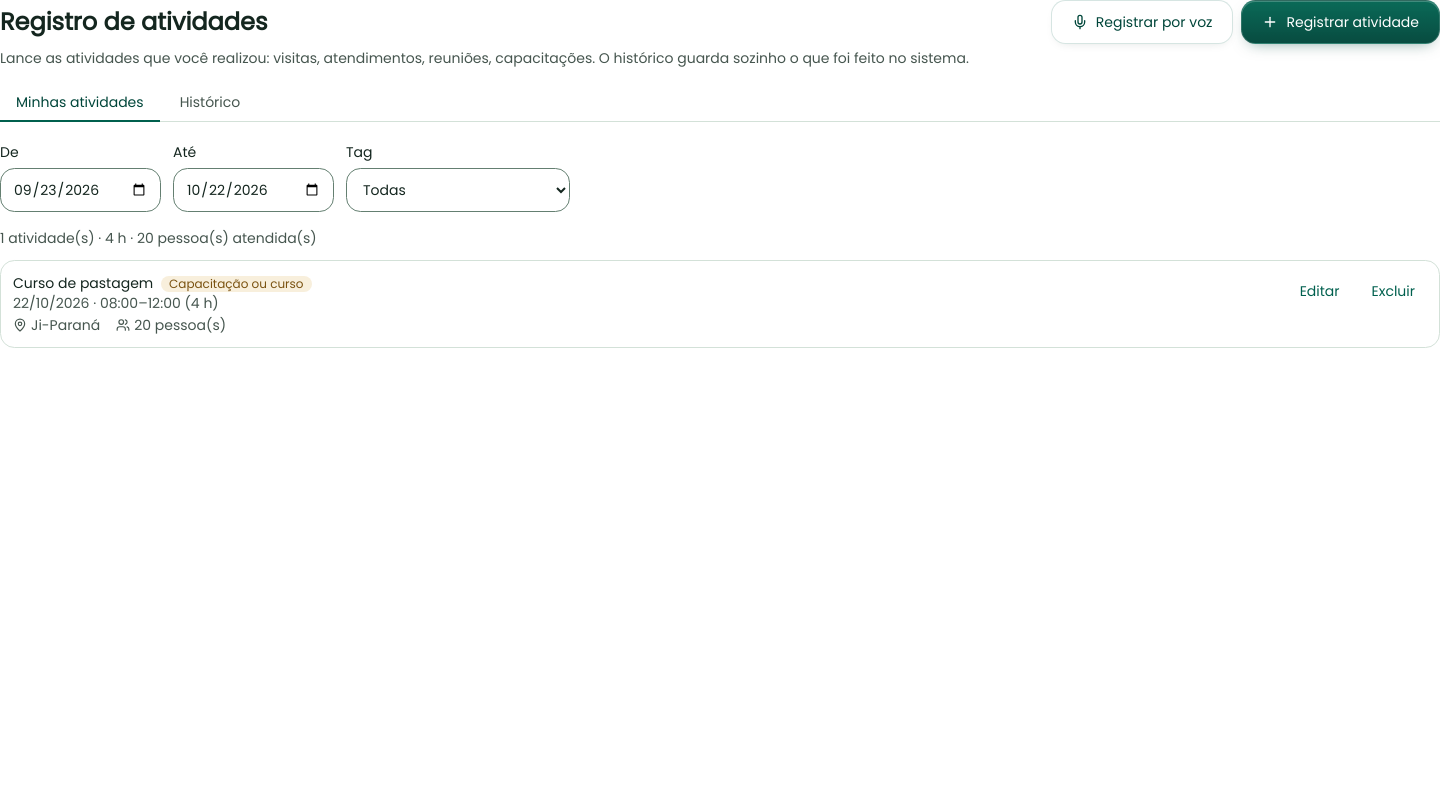
Registro de atividades › aplica tag numa atividade, mostra o chip e filtra por ela
Step 1. Click the button "Registrar atividade" → [1341, 22], box top-left (1242, 0), bottom-right (1439, 44)
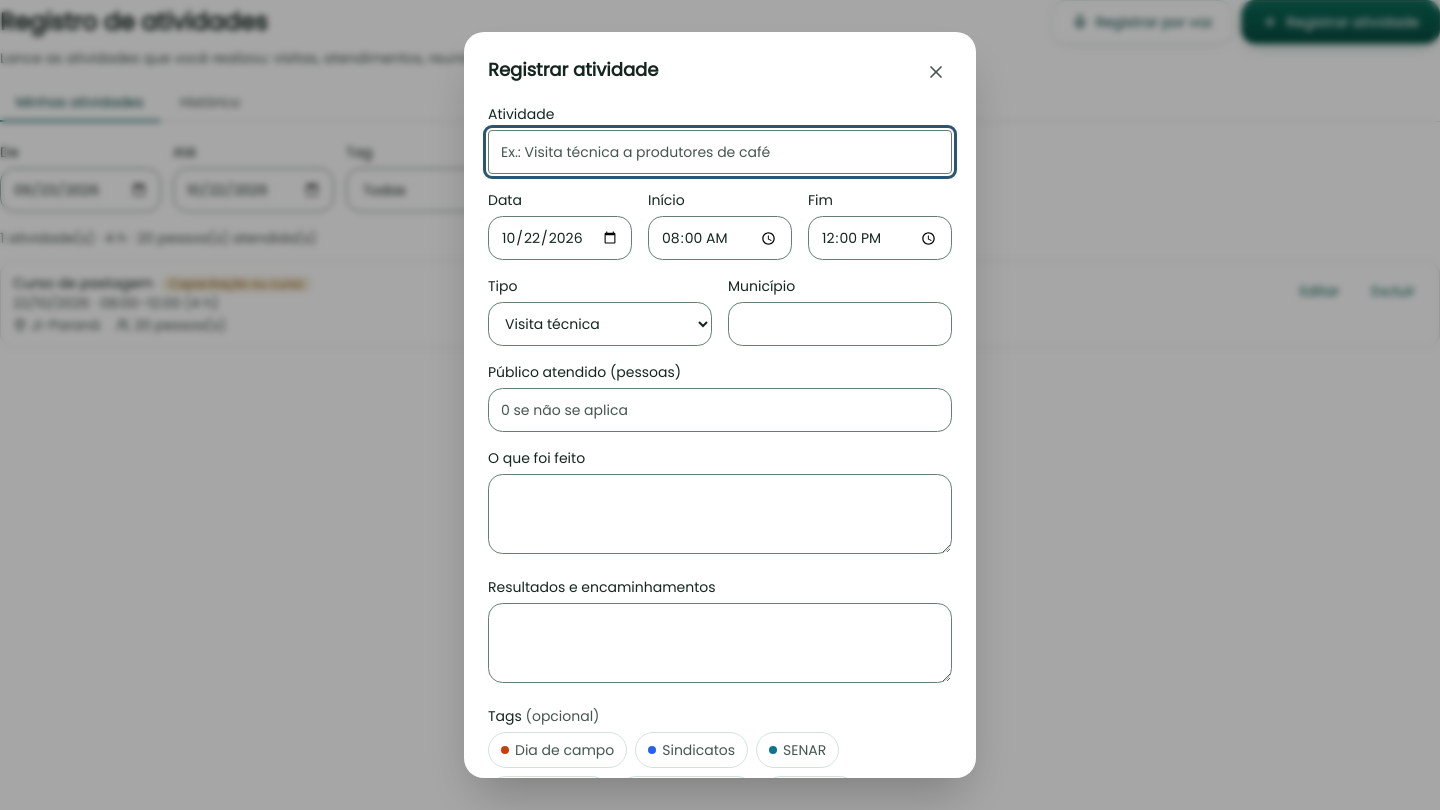
Step 2. Type "Dia de campo do café" into the field labelled "Atividade" → [720, 152], box top-left (488, 130), bottom-right (952, 174)
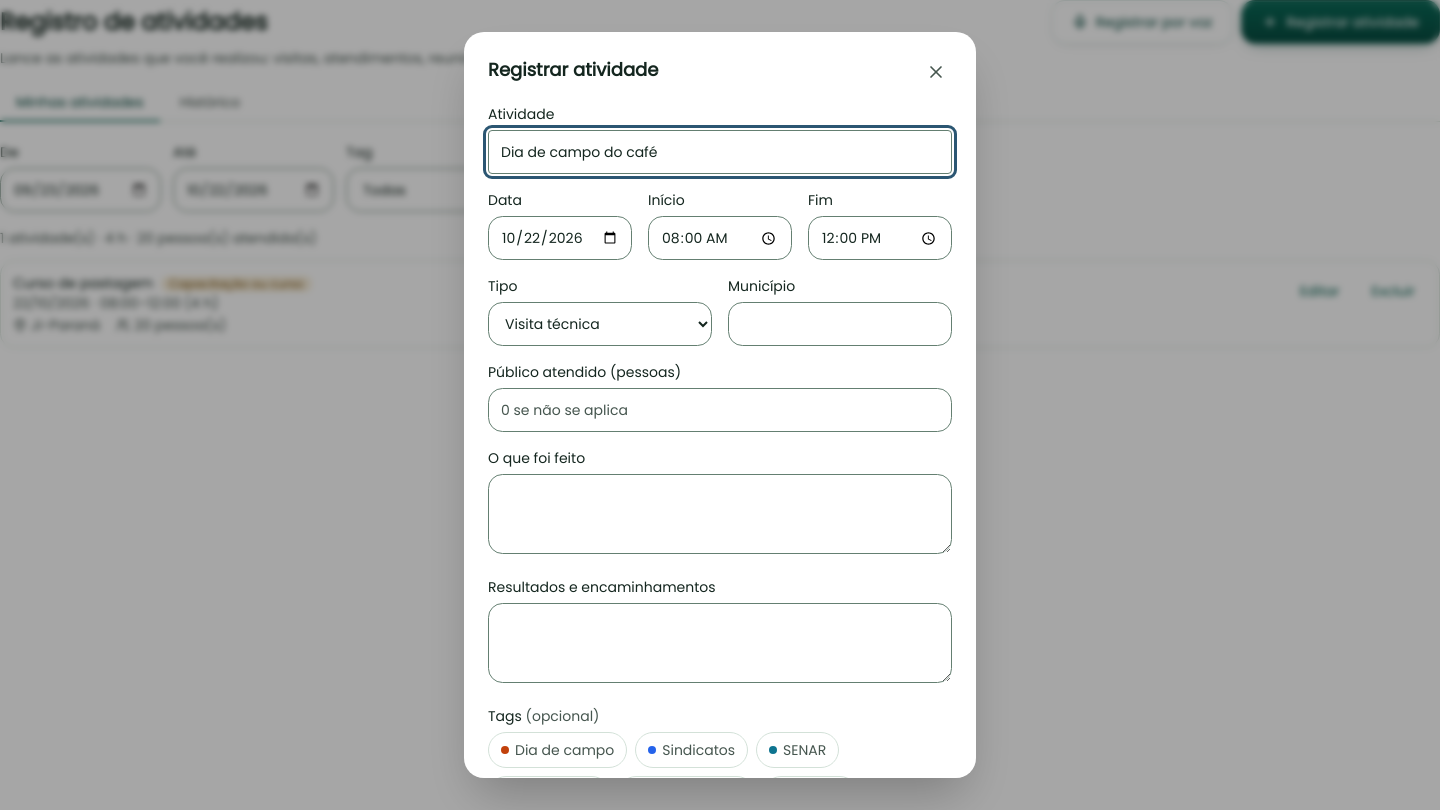
Step 3. Click the checkbox labelled "Dia de campo" → [558, 750], box top-left (488, 732), bottom-right (627, 768)
(page scrolled)
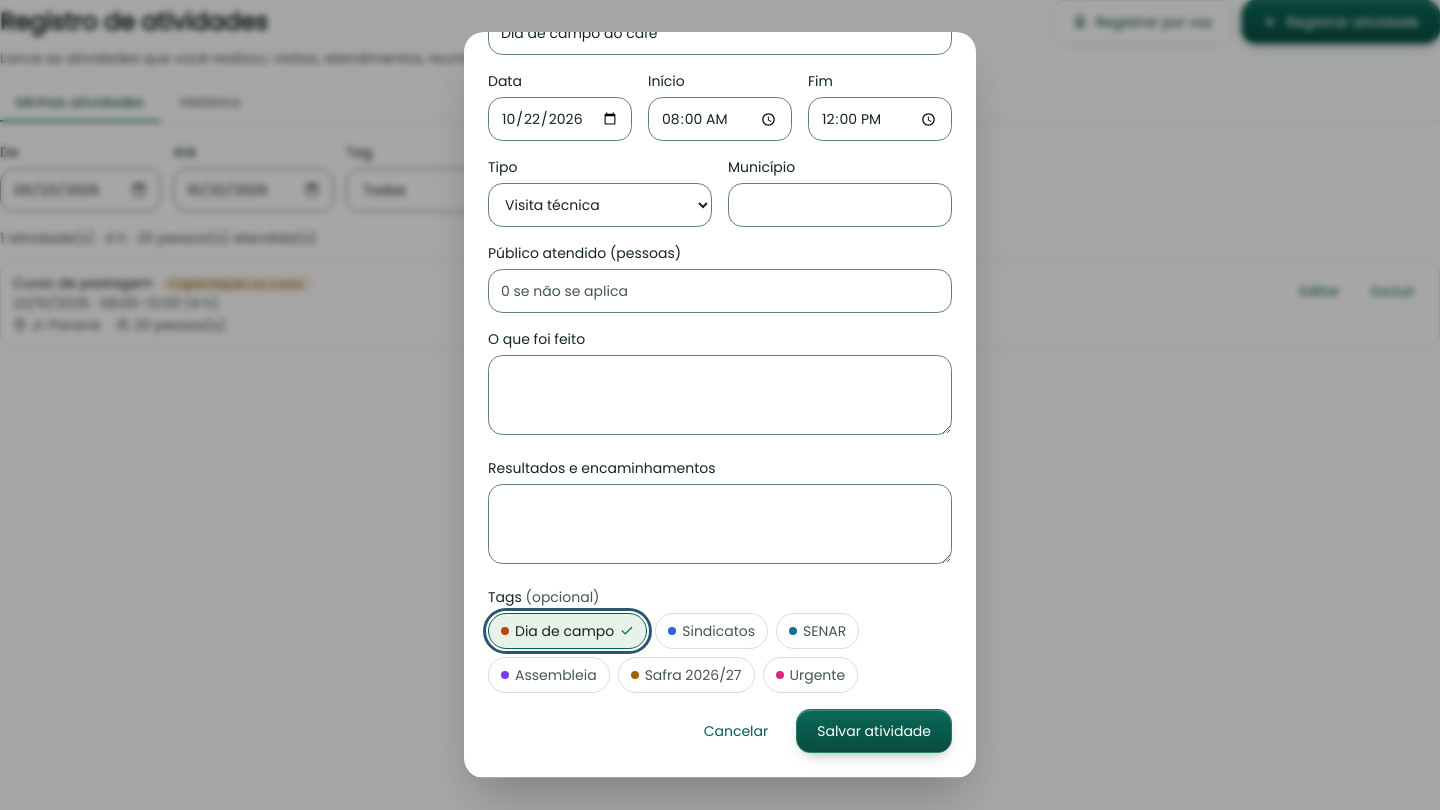
Step 4. Click the button "Salvar atividade" → [874, 731], box top-left (796, 709), bottom-right (952, 753)
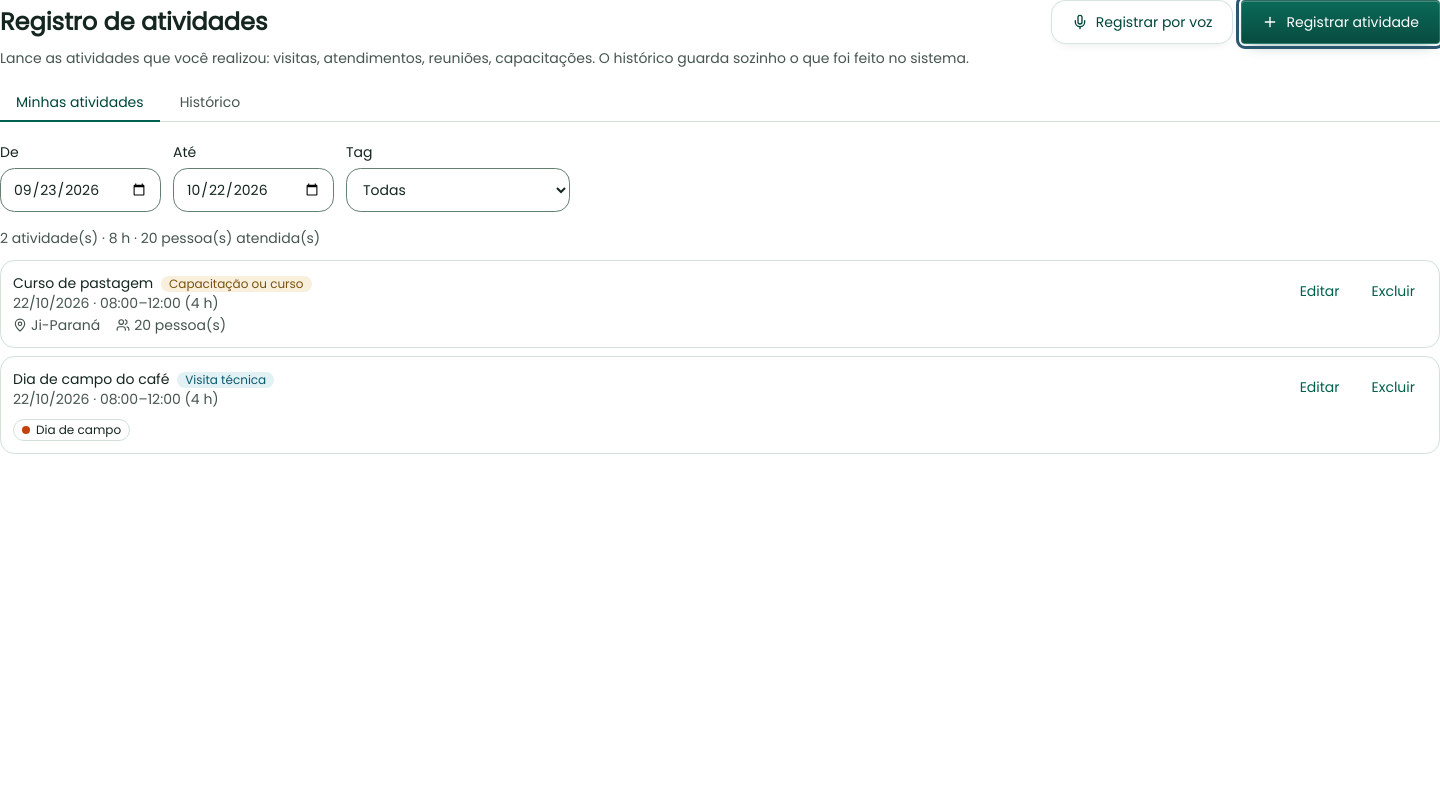
Step 5. Select "Dia de campo" in the dropdown labelled "Tag" → [458, 190], box top-left (346, 168), bottom-right (570, 212)
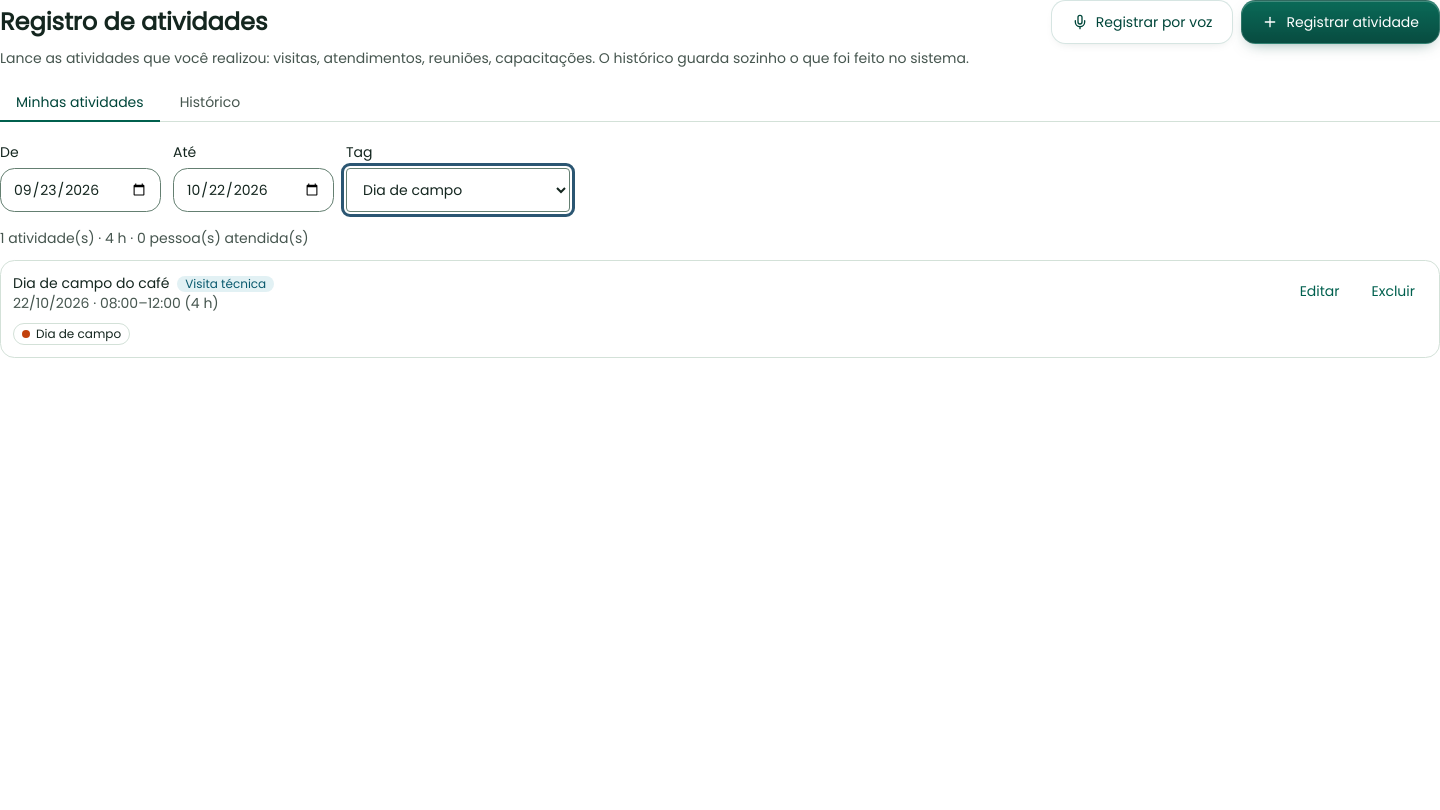
expect the text "Dia de campo" is shown: met, box top-left (13, 323), bottom-right (130, 345)
expect the text "Curso de pastagem" is gone: met
Step 6. Select "Todas" in the dropdown labelled "Tag" → [458, 190], box top-left (346, 168), bottom-right (570, 212)
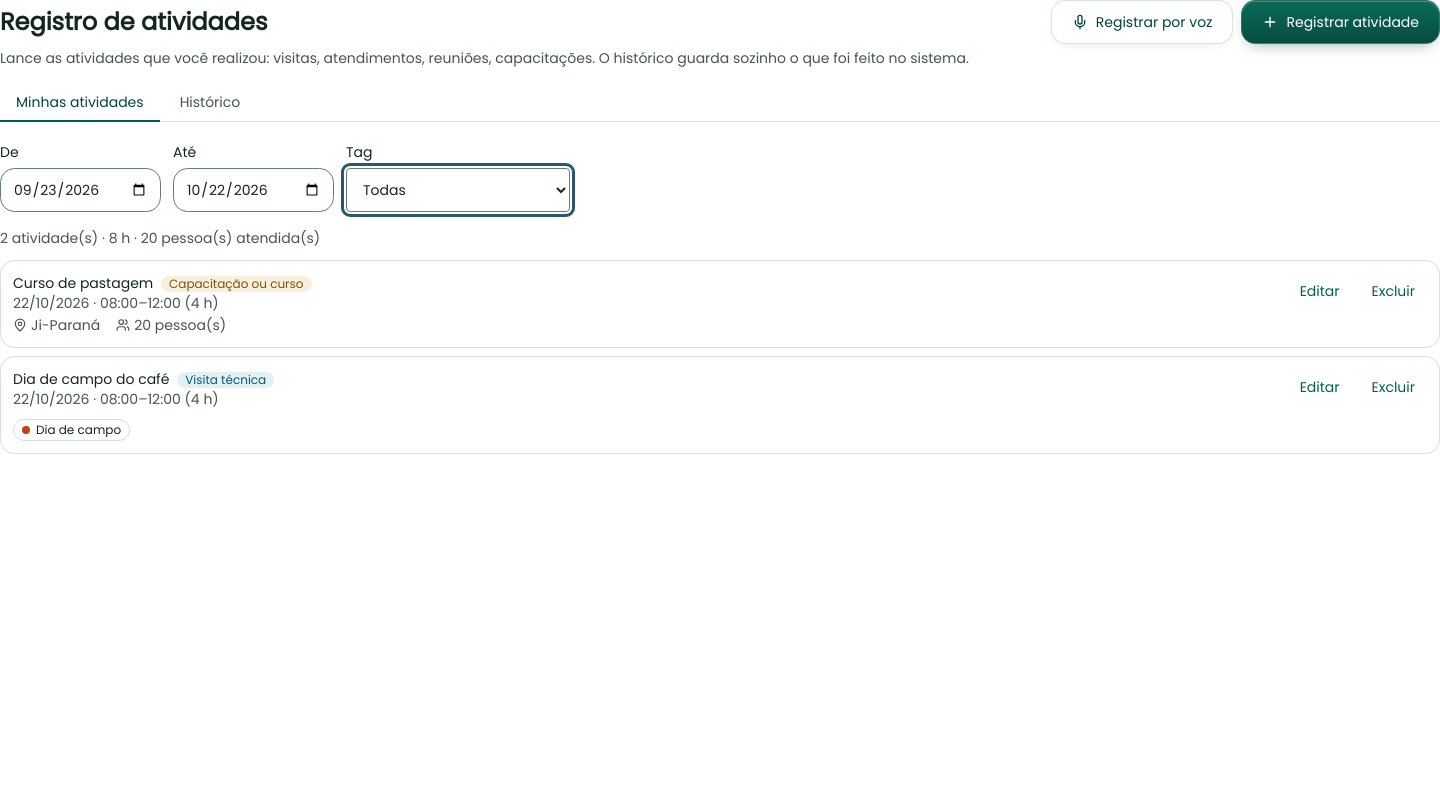
expect the text "Curso de pastagem" is shown: met, box top-left (13, 273), bottom-right (153, 293)
